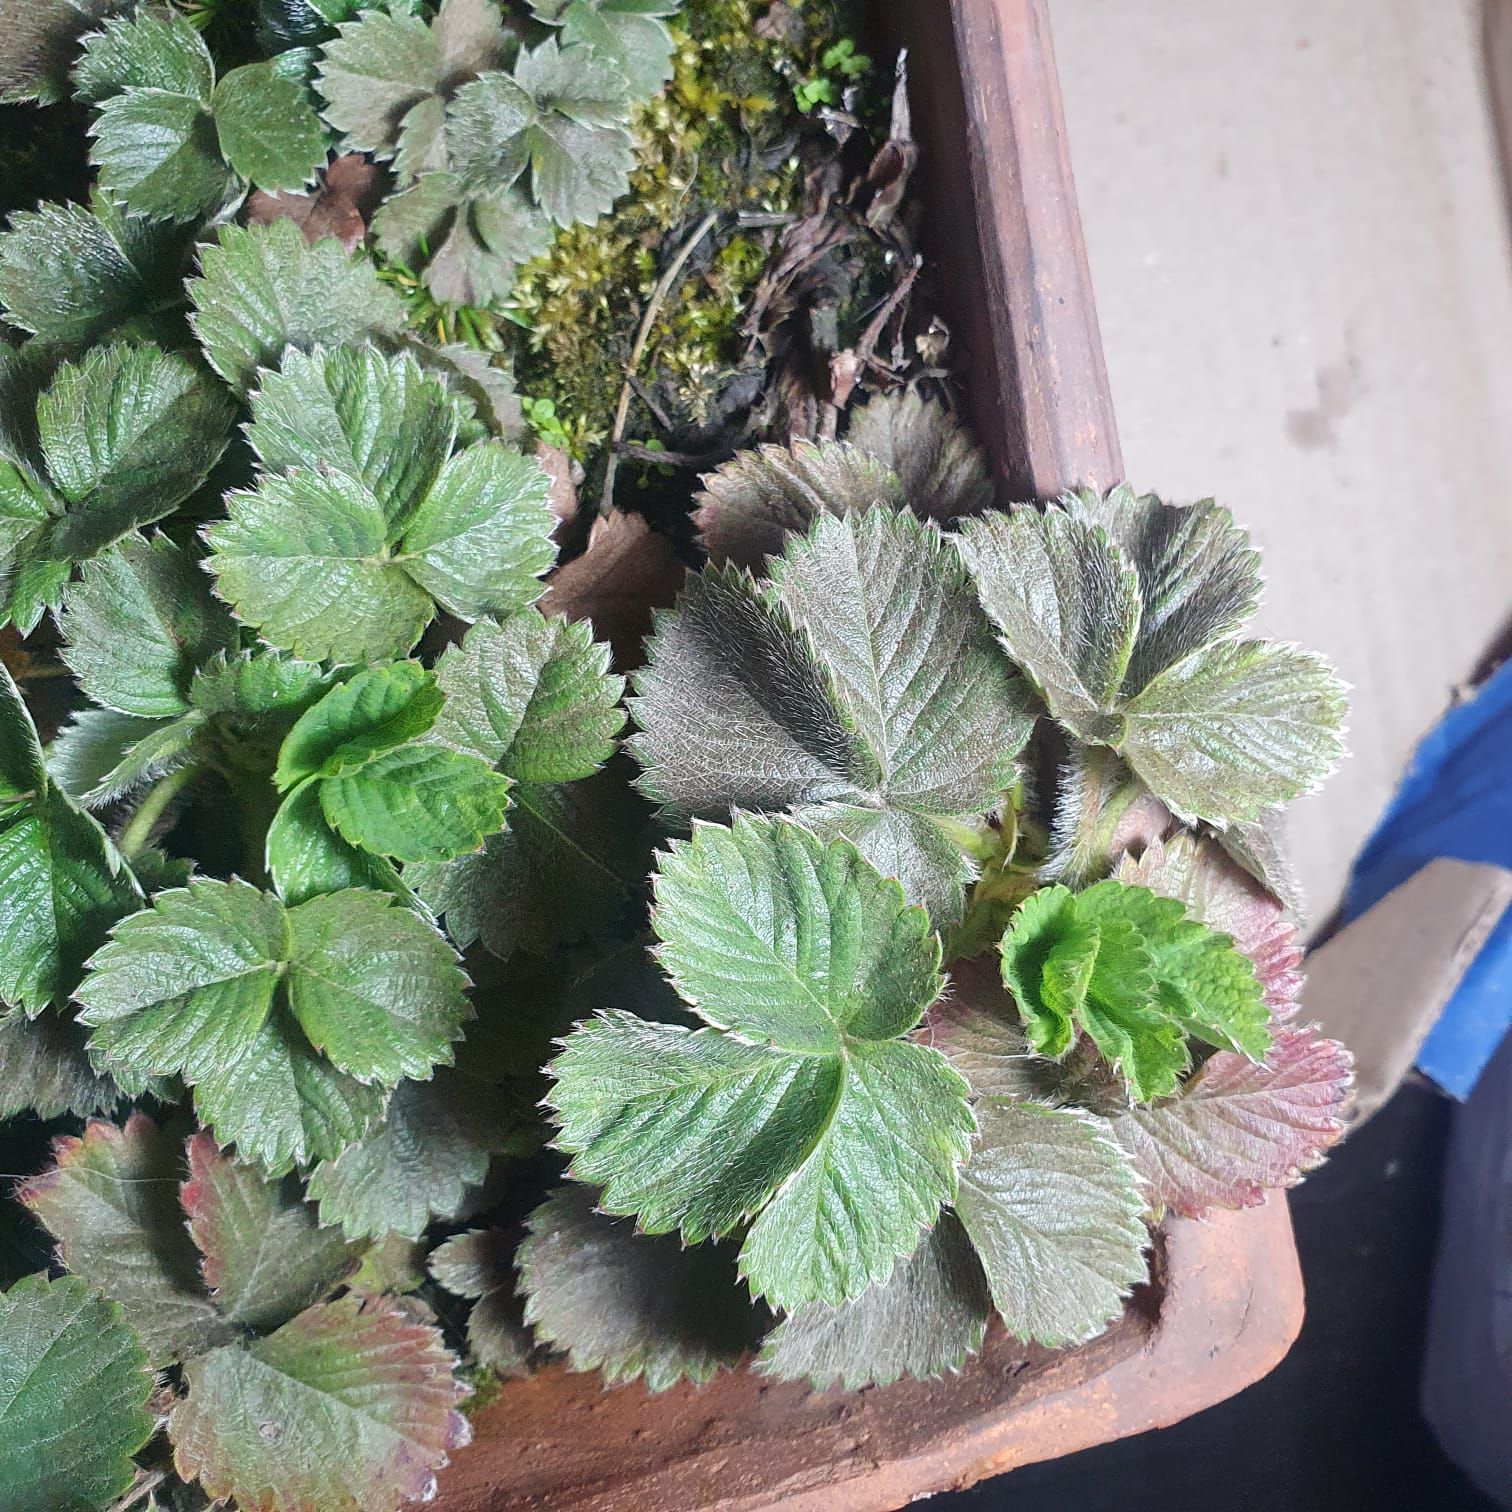sano: (4, 330, 580, 1151)
